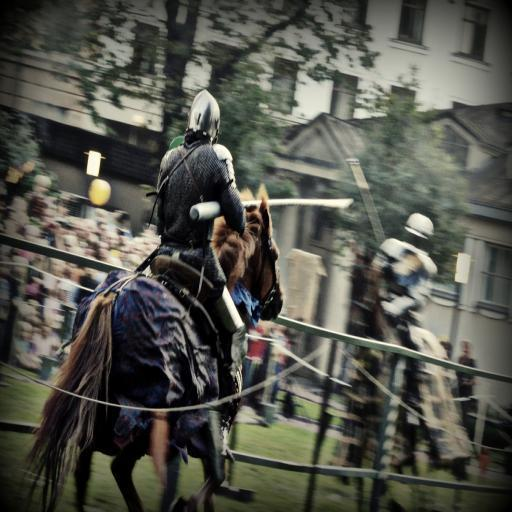horse: (17, 182, 287, 512)
